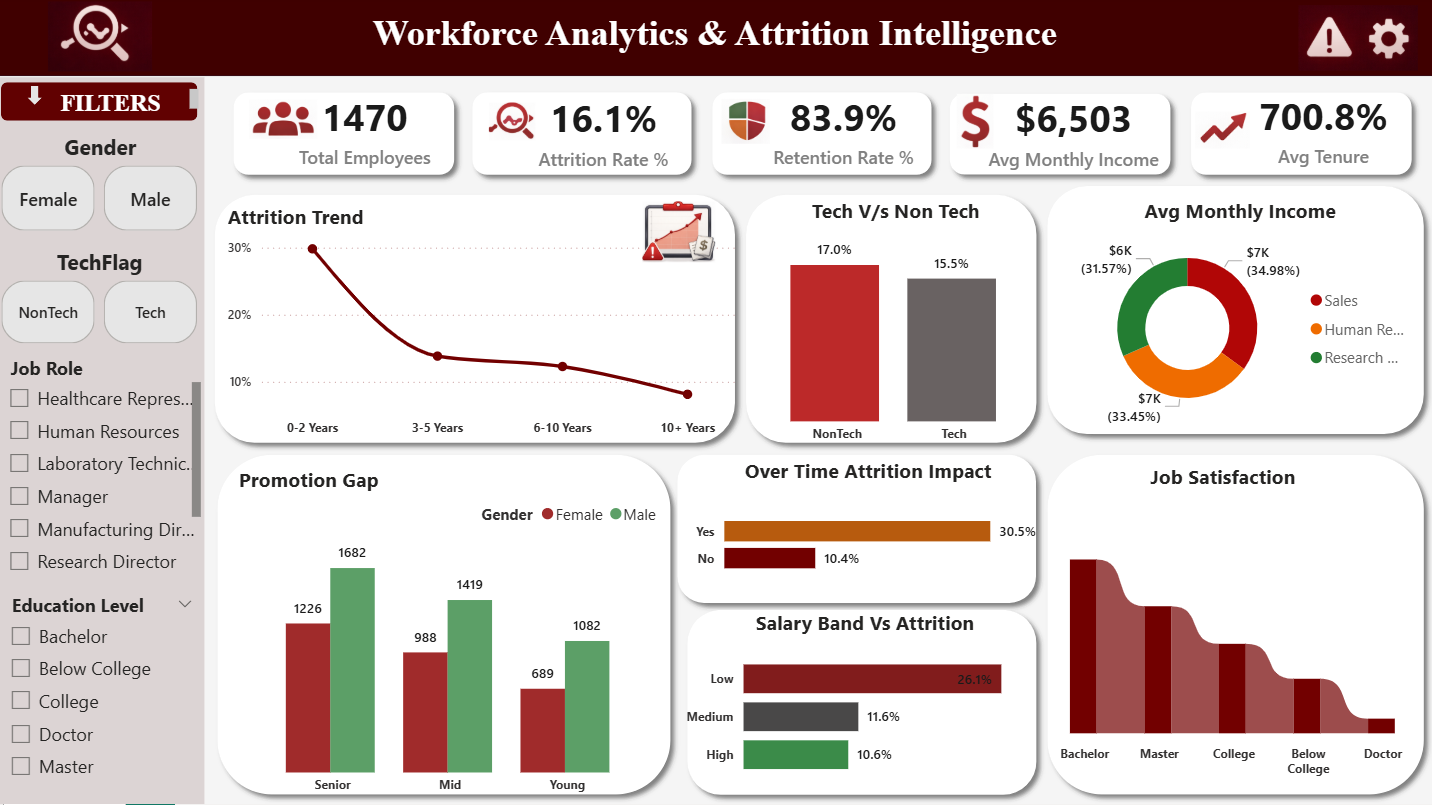

The dashboard page shown, as its layout file describes it:
{"tool":"powerbi","page":{"name":"Workforce","canvas":[1280,720],"ordinal":0},"visuals":[{"type":"shape","box":[927,399.5,353.3,320.4],"z":0},{"type":"shape","box":[187.6,399.5,421.5,320.4],"z":1000},{"type":"shape","box":[186.4,168.1,481.2,238.8],"z":2000},{"type":"shape","box":[1054.9,76.7,214.4,91.4],"z":3000},{"type":"shape","box":[840.5,78,214.4,90.1],"z":4000},{"type":"shape","box":[628.6,76.7,213.2,91.4],"z":5000},{"type":"shape","box":[415.4,76.7,213.2,91.4],"z":6000},{"type":"shape","box":[202.2,76.7,214.4,91.4],"z":7000},{"type":"shape","box":[0,0,1280.3,72.1],"z":8000},{"type":"textbox","box":[311.8,8.6,656.7,56.3],"z":9000},{"type":"shape","box":[0,72.1,185.9,648.1],"z":10000},{"type":"shape","box":[4.9,77,174.9,34.2],"z":11000},{"type":"textbox","box":[52.6,78.3,133.3,30.6],"z":12000},{"type":"advancedSlicerVisual","fields":{"Values":["employee_attrition.Gender"]},"box":[0,121.1,185.9,92.9],"z":13000},{"type":"advancedSlicerVisual","fields":{"Values":["employee_attrition.TechFlag"]},"box":[0,223.8,184.6,91.7],"z":14000},{"type":"slicer","fields":{"Values":["employee_attrition.JobRole"]},"box":[0,315.5,187.6,210.7],"z":15000},{"type":"slicer","fields":{"Values":["employee_attrition.EducationLevel"]},"box":[1.2,526.2,186.4,182.7],"z":16000},{"type":"card","fields":{"Values":["Measure Table.Totol Employees"]},"box":[241.2,76.7,174.2,82.8],"z":17000},{"type":"card","fields":{"Values":["Measure Table.Attrition Rate %"]},"box":[454.4,79.2,174.2,81.6],"z":18000},{"type":"card","fields":{"Values":["Measure Table.Retention Rate %"]},"box":[667.5,78,174.2,81.6],"z":19000},{"type":"card","fields":{"Values":["Measure Table.Avg Monthly Income"]},"box":[872.2,79.2,174.2,81.6],"z":20000},{"type":"card","fields":{"Values":["Measure Table.Avg Tenure"]},"box":[1095.1,76.7,174.2,81.6],"z":21000},{"type":"lineChart","title":"Attrition Trend","fields":{"Y":["Measure Table.Attrition Rate %"],"Category":["employee_attrition.Tenure_group"]},"box":[201,185.2,464.1,216.8],"z":22000},{"type":"shape","box":[659,168.1,276.5,238.8],"z":23000},{"type":"clusteredColumnChart","title":"Tech V/s Non Tech","fields":{"Category":["employee_attrition.TechFlag"],"Y":["Measure Table.Attrition Rate %"]},"box":[609.1,179.1,384.9,227.8],"z":24000},{"type":"shape","box":[927,160.8,353.3,238.8],"z":25000},{"type":"donutChart","title":"Avg Monthly Income ","fields":{"Category":["employee_attrition.Department"],"Y":["Measure Table.Avg Monthly Income"]},"box":[947.7,179.1,321.6,210.7],"z":26000},{"type":"clusteredColumnChart","title":"Promotion Gap ","fields":{"Category":["employee_attrition.AgeGroup"],"Series":["employee_attrition.Gender"],"Y":["Sum(employee_attrition.PromotionGap)"]},"box":[212,419,386.1,300.9],"z":27000},{"type":"shape","box":[598.1,399.5,337.4,149.8],"z":28000},{"type":"barChart","title":" Over Time Attrition Impact","fields":{"Category":["employee_attrition.OverTime"],"Y":["Measure Table.Attrition Rate %"]},"box":[617.6,410.5,317.9,126.7],"z":29000},{"type":"shape","box":[606.6,537.2,328.9,182.7],"z":30000},{"type":"barChart","title":"Salary Band Vs Attrition","fields":{"Y":["Measure Table.Attrition Rate %"],"Category":["employee_attrition.IncomeBand"]},"box":[609.1,546.9,330.1,162],"z":31000},{"type":"ribbonChart","title":"Job Satisfaction","fields":{"Category":["employee_attrition.EducationLevel"],"Y":["Sum(employee_attrition.JobSatisfaction)"]},"box":[905.1,416.6,375.2,287.5],"z":32000},{"type":"image","box":[220.5,76.7,70.7,65.8],"z":33000},{"type":"image","box":[433.7,86.5,51.2,49.9],"z":34000},{"type":"image","box":[840.5,82.8,63.3,58.5],"z":35000},{"type":"image","box":[640.7,86.5,53.6,49.9],"z":36000},{"type":"image","box":[1063.4,96.2,58.5,47.5],"z":37000},{"type":"image","box":[1145,3.7,135.2,68.2],"z":38000},{"type":"image","box":[28,0,129.1,71.9],"z":39000},{"type":"image","box":[547.7,178.6,120.6,63.9],"z":40000},{"type":"shape","box":[27.7,79.6,13.3,16.9],"z":41000}]}

Visuals, with their boxes in screenshot pixels (x1, y1, x2, y2), scaled from the page's 1280x720 canvas onto the 1432x805 screenshot:
shape: [1037, 447, 1431, 804]
shape: [210, 447, 681, 804]
shape: [209, 188, 747, 455]
shape: [1180, 86, 1420, 188]
shape: [940, 87, 1180, 188]
shape: [703, 86, 942, 188]
shape: [465, 86, 703, 188]
shape: [226, 86, 466, 188]
shape: [0, 0, 1431, 81]
textbox: [349, 10, 1084, 73]
shape: [0, 81, 208, 804]
shape: [5, 86, 201, 124]
textbox: [59, 88, 208, 122]
advancedSlicerVisual - employee_attrition.Gender: [0, 135, 208, 239]
advancedSlicerVisual - employee_attrition.TechFlag: [0, 250, 207, 353]
slicer - employee_attrition.JobRole: [0, 353, 210, 588]
slicer - employee_attrition.EducationLevel: [1, 588, 210, 793]
card - Measure Table.Totol Employees: [270, 86, 465, 178]
card - Measure Table.Attrition Rate %: [508, 89, 703, 180]
card - Measure Table.Retention Rate %: [747, 87, 942, 178]
card - Measure Table.Avg Monthly Income: [976, 89, 1171, 180]
card - Measure Table.Avg Tenure: [1225, 86, 1420, 177]
"Attrition Trend" lineChart: [225, 207, 744, 449]
shape: [737, 188, 1047, 455]
"Tech V/s Non Tech" clusteredColumnChart: [681, 200, 1112, 455]
shape: [1037, 180, 1431, 447]
"Avg Monthly Income " donutChart: [1060, 200, 1420, 436]
"Promotion Gap " clusteredColumnChart: [237, 468, 669, 804]
shape: [669, 447, 1047, 614]
" Over Time Attrition Impact" barChart: [691, 459, 1047, 601]
shape: [679, 601, 1047, 804]
"Salary Band Vs Attrition" barChart: [681, 611, 1051, 793]
"Job Satisfaction" ribbonChart: [1013, 466, 1431, 787]
image: [247, 86, 326, 159]
image: [485, 97, 542, 153]
image: [940, 93, 1011, 158]
image: [717, 97, 777, 153]
image: [1190, 108, 1255, 161]
image: [1281, 4, 1431, 80]
image: [31, 0, 176, 80]
image: [613, 200, 748, 271]
shape: [31, 89, 46, 108]
